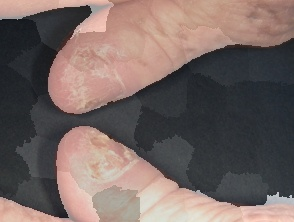Nail_psoriasis: (54, 111, 142, 197), (52, 40, 124, 118)
